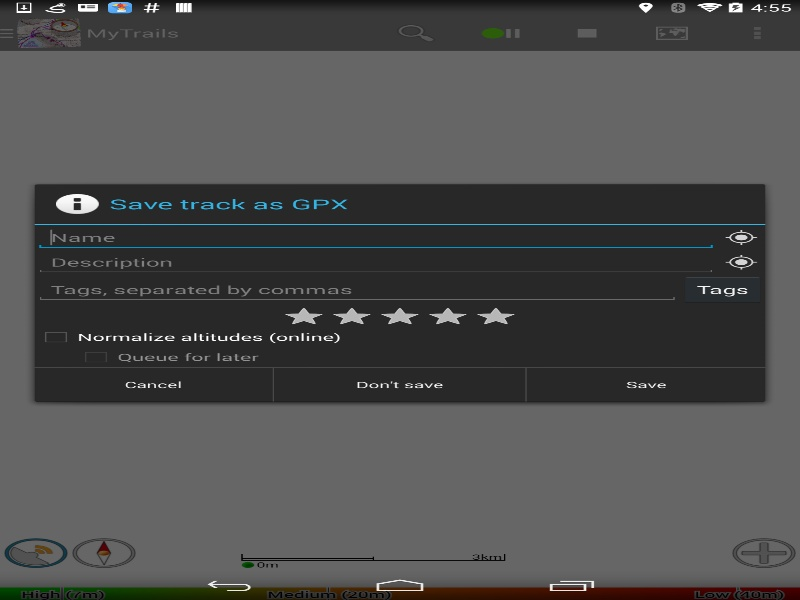Button: (274, 367, 525, 401), (526, 367, 765, 401), (34, 367, 272, 401), (680, 274, 765, 304), (720, 227, 762, 247), (720, 252, 762, 272)
Input: (34, 225, 717, 250), (34, 250, 717, 274), (34, 277, 680, 302)
